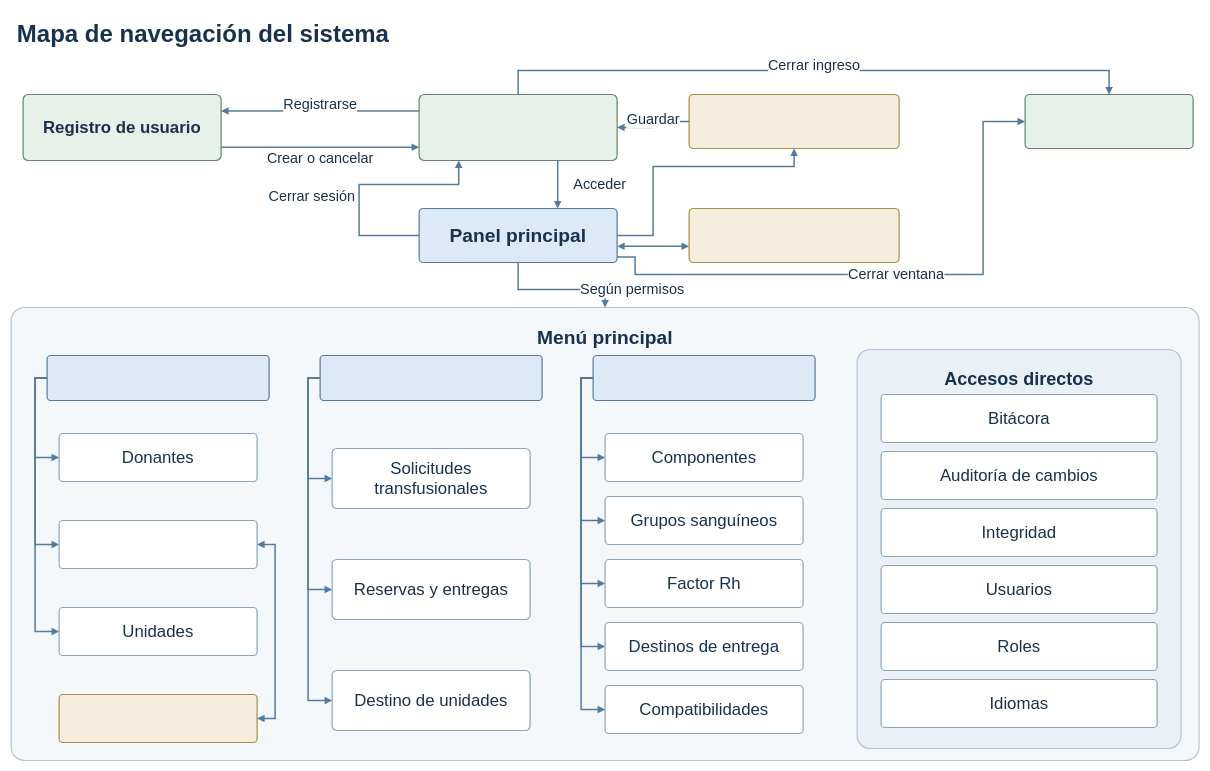
The diagram is 1210 pixels wide and 771 high, and some of its shapes have lost their labels. The centre of each missing label's shape, as x and y in pixels:
"Cambiar contraseña" belongs at (793,121).
"Cantidad e historial" belongs at (157,718).
"Donaciones" belongs at (157,544).
"Fin de la aplicación" belongs at (1108,121).
"Ingreso al sistema" belongs at (517,127).
"Maestros" belongs at (703,378).
"PN1" belongs at (157,378).
"PN2" belongs at (430,378).
"Selector de idioma" belongs at (793,235).
